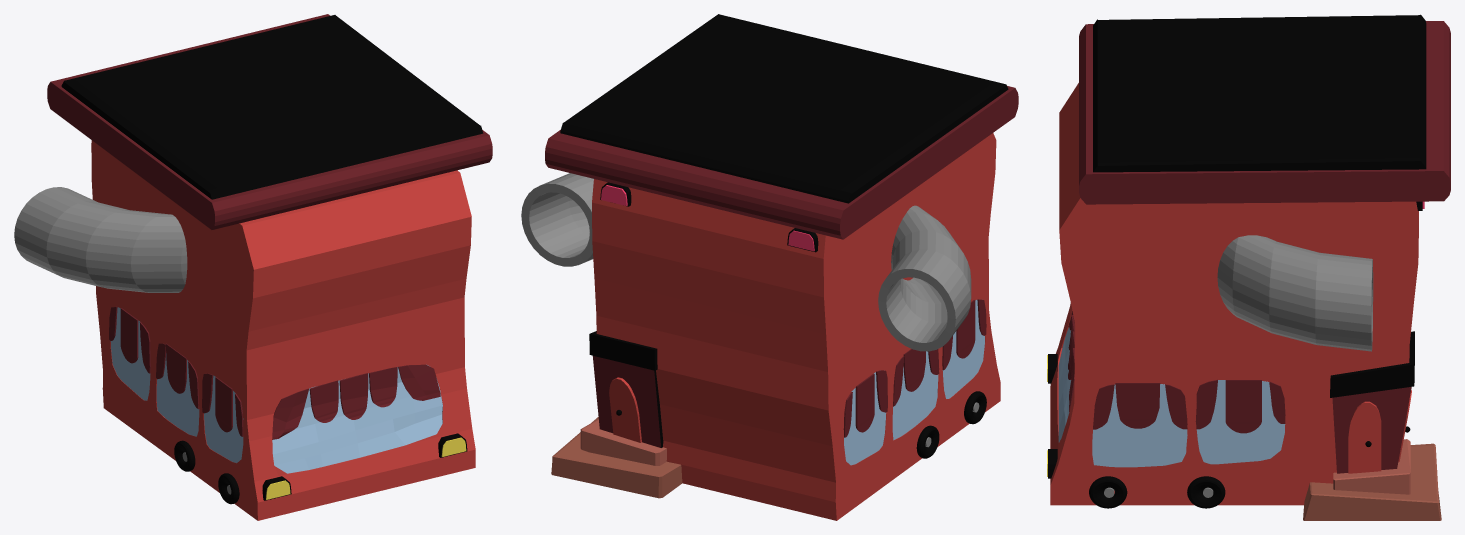
The model's file is FBX_Company4.fbx.
3 renders of one model, left to right at view 1: azimuth 30°, elevation 25°; view 2: azimuth 150°, elevation 25°; view 3: azimuth 270°, elevation 25°, orthographic. The views are drawn at different scales.
Visible parts, largest first — view 1: Cube.058, Cube.060, Cube.059, BézierCurve.006, Cube.086, Cube.075, Cube.082, Cube.074, Cube.088, Cube.089, Cube.087, Cube.090 (+4 smaller); view 2: Cube.058, Cube.060, Cube.059, BézierCurve.006, Cube.063, Cube.065, Cube.064, Cube.075, Cube.082, Cube.074, Cube.067, Cube.083 (+2 smaller); view 3: Cube.058, Cube.060, Cube.059, BézierCurve.006, Cube.063, Cube.065, Cube.062, Cube.061, Cube.066, Cube.064, Cube.069, Cube.068 (+7 smaller).
Part boxes in pixels (x1,y1,x2,y2): Cube.058: [91, 140, 475, 520]; Cube.060: [61, 15, 483, 199]; Cube.059: [47, 14, 492, 229]; BézierCurve.006: [14, 187, 187, 292]; Cube.086: [272, 364, 442, 473]; Cube.075: [156, 353, 199, 436]; Cube.082: [110, 307, 150, 400]; Cube.074: [204, 375, 243, 462]; Cube.088: [398, 364, 440, 400]; Cube.089: [272, 388, 308, 439]; Cube.087: [339, 373, 368, 419]; Cube.090: [309, 380, 338, 422]; Cube.058: [592, 133, 1000, 520]; Cube.060: [560, 14, 1008, 203]; Cube.059: [545, 86, 1018, 239]; BézierCurve.006: [521, 173, 971, 351]; Cube.063: [589, 331, 663, 447]; Cube.065: [551, 417, 682, 498]; Cube.064: [580, 419, 666, 465]; Cube.075: [892, 351, 938, 440]; Cube.082: [844, 372, 886, 465]; Cube.074: [942, 300, 984, 398]; Cube.067: [609, 377, 641, 442]; Cube.083: [855, 373, 874, 432]; Cube.058: [1050, 83, 1418, 505]; Cube.060: [1093, 14, 1426, 172]; Cube.059: [1079, 21, 1450, 204]; BézierCurve.006: [1217, 235, 1373, 351]; Cube.063: [1330, 331, 1414, 473]; Cube.065: [1303, 443, 1441, 520]; Cube.062: [1092, 384, 1187, 467]; Cube.061: [1196, 380, 1285, 464]; Cube.066: [1348, 401, 1381, 473]; Cube.064: [1333, 439, 1410, 494]; Cube.069: [1225, 380, 1261, 433]; Cube.068: [1115, 383, 1160, 428].
Bounding box in the file's own units: 2.68 × 2.08 × 2.05.
